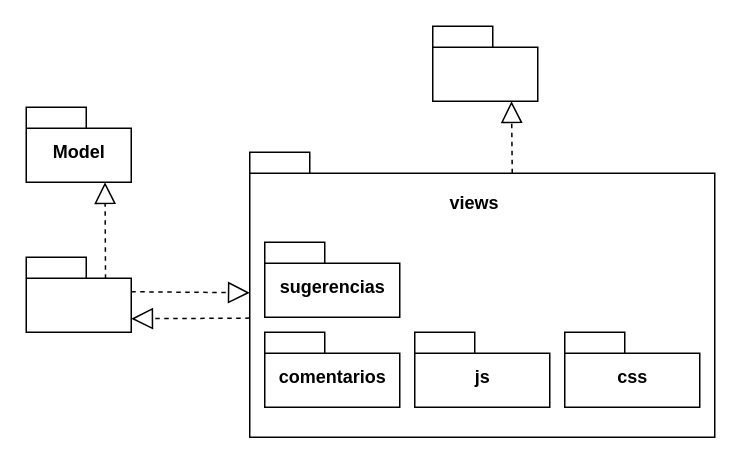
Some shapes in this 741 by 464 pixel diagram are drawn without their labels. Here are the shapes that lost their labels. From the top down, the centre of each, then its label:
At (484,63): "resourses".
At (78,294): "Controllers".
